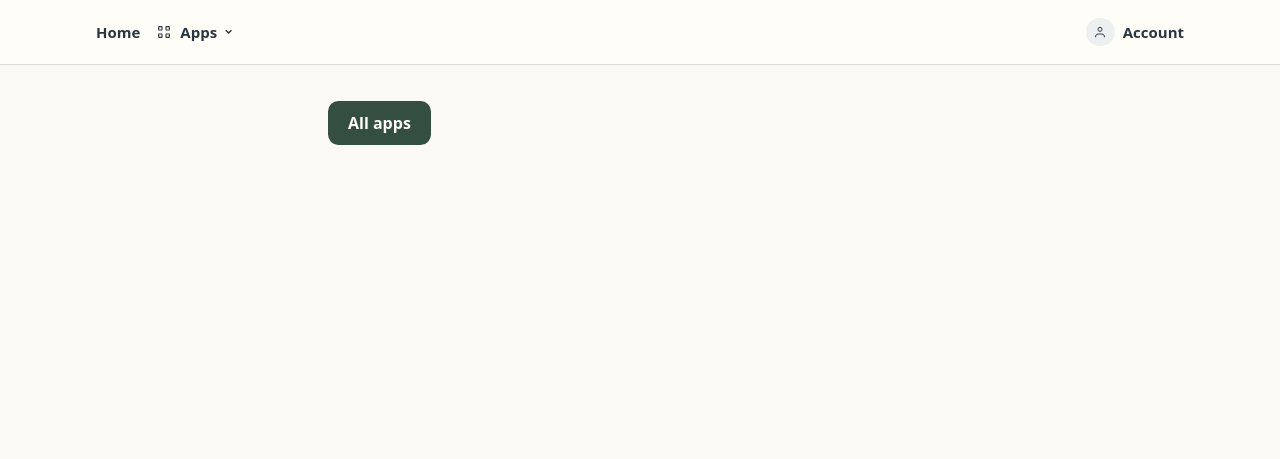
sign-in failure stays inside Account and never blocks the launcher
Later steps or results of the test are not shown.
Click the link "Account" at [1135, 32], box [1086,10,1184,54]
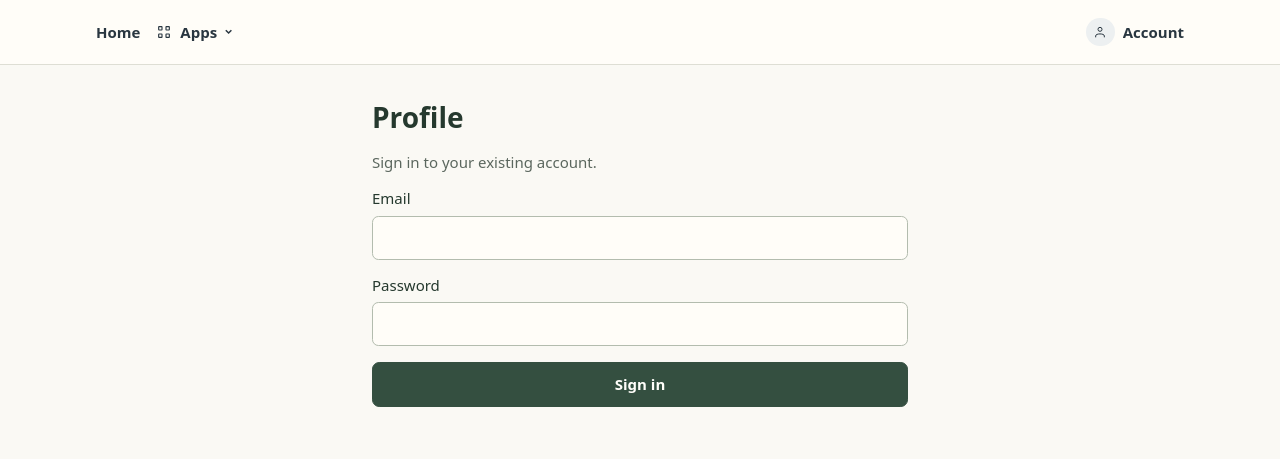
Type "fixture@example.invalid" into the field named "email" at [640, 238], box [372,216,908,260]
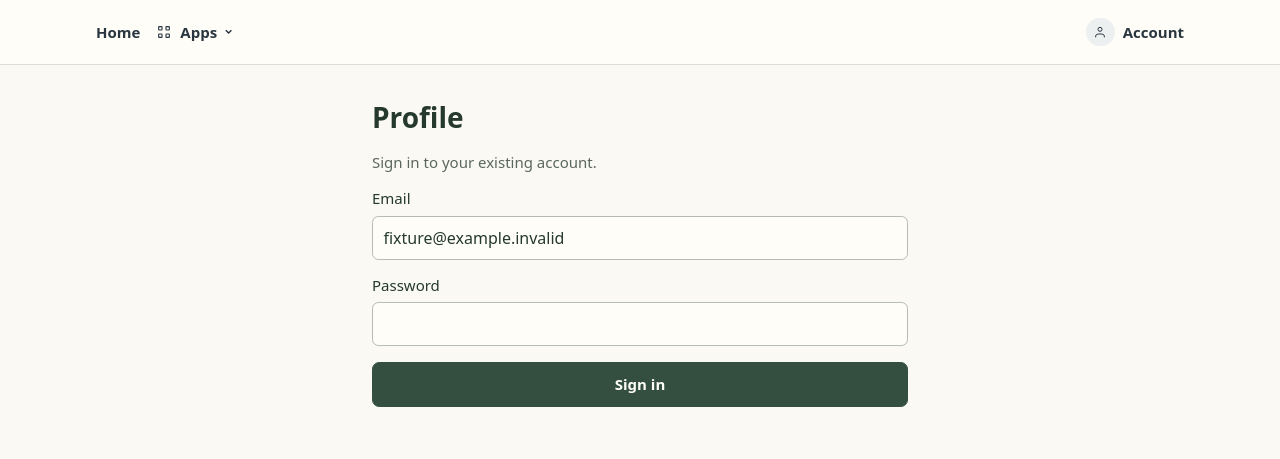
Type "synthetic-password" into the password field named "password" at [640, 324], box [372,302,908,346]
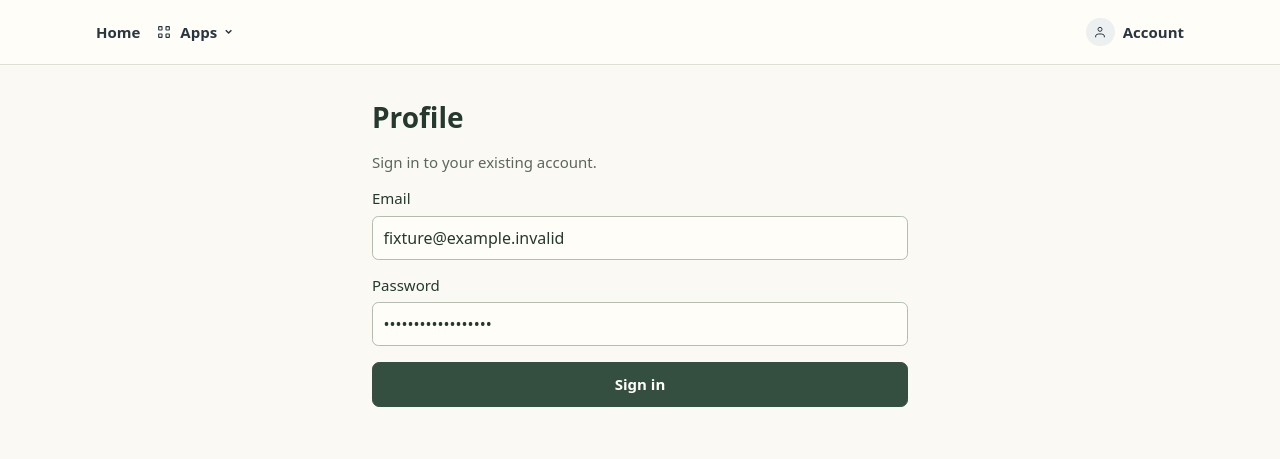
Submit the form, box [372,151,908,407]
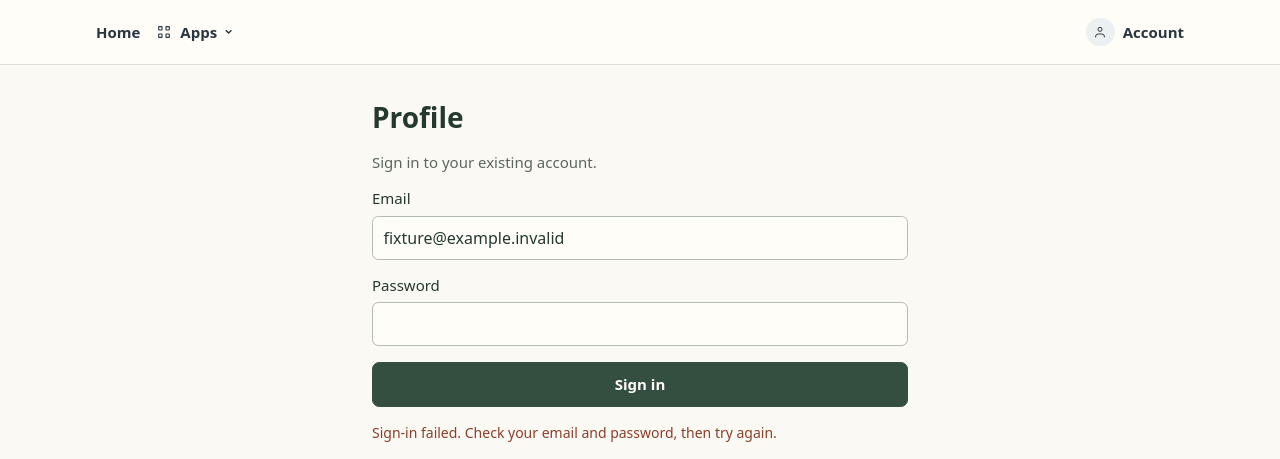
Now the form is shown, box [372,151,908,407]
Click the link "Home" at [118, 32], box [96,22,140,42]
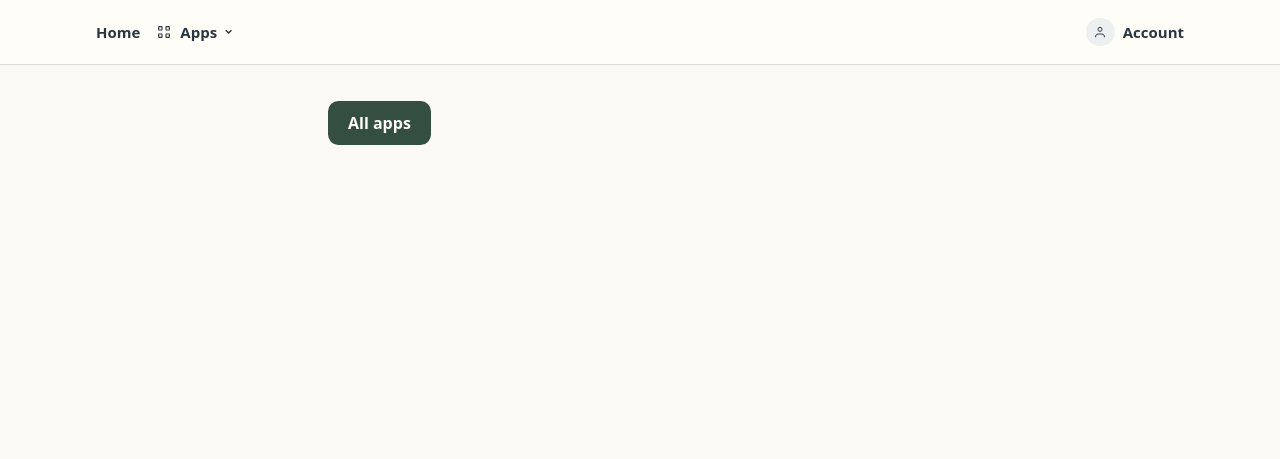
Now the link "All apps" is shown, box [328,101,431,145]
